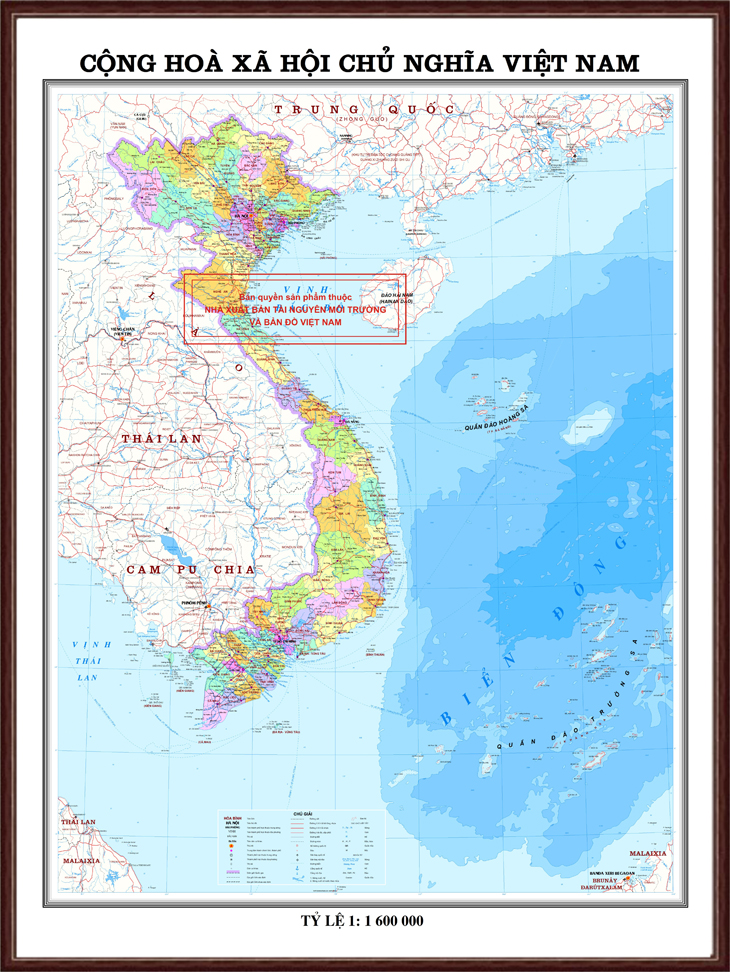Island: (462, 596, 677, 777), (450, 356, 547, 453)
